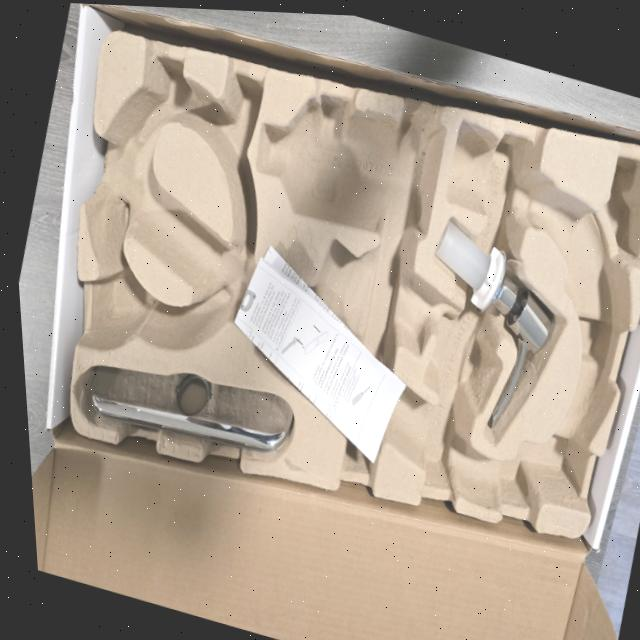1m: (94, 124, 627, 496)
2: (433, 217, 553, 425)
3m: (257, 99, 444, 236)
4: (91, 363, 293, 452)
5m: (105, 274, 149, 332)
6m: (127, 59, 185, 150)
7m: (194, 73, 260, 204)
8: (234, 243, 407, 465)
